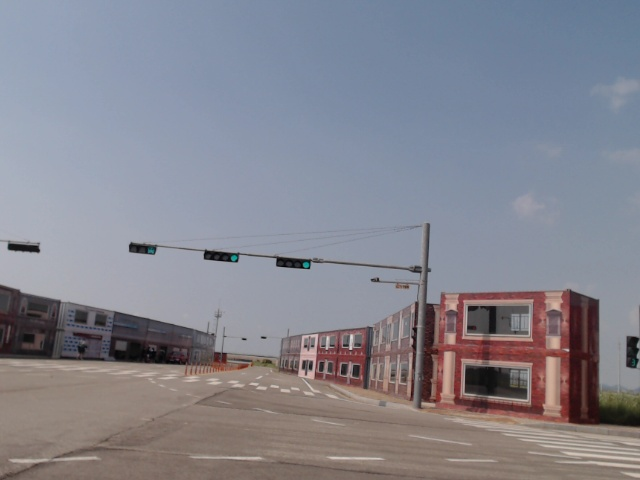straight_green_4: (204, 249, 239, 265), (276, 257, 310, 268)
